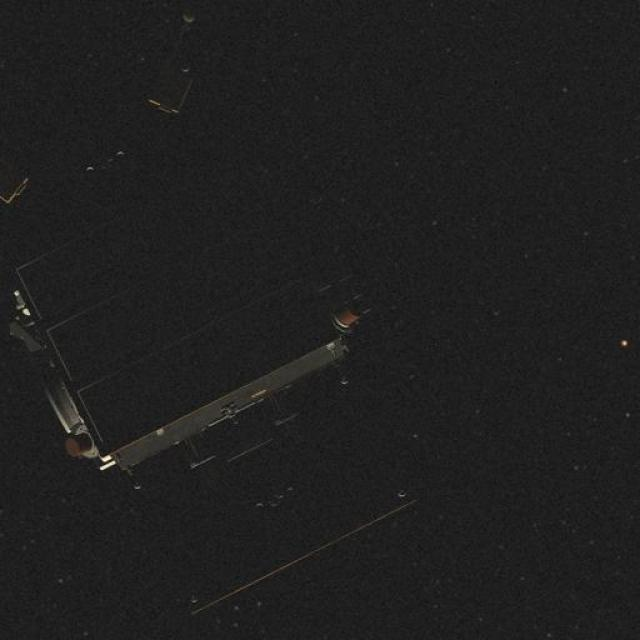proba_2: (9, 125, 356, 488)
